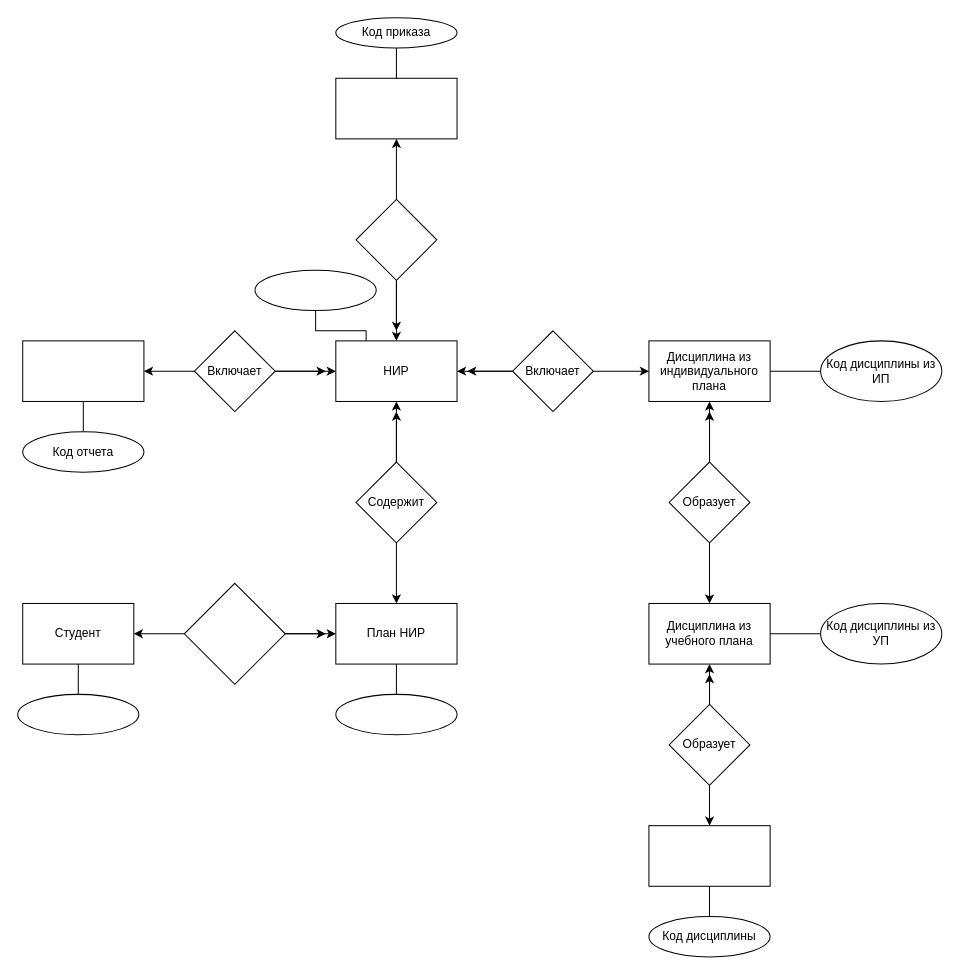
The diagram is 960 pixels wide and 975 high, and some of its shapes have lost their labels. The centre of each missing label's shape, as x and y in pixels:
"Дисциплина" belongs at (709,855).
"Код НИР" belongs at (315,290).
"Код плана НИР" belongs at (396,714).
"Код студента" belongs at (78,714).
"Отчетность НИР" belongs at (83,370).
"Приказ" belongs at (396,108).
"Присваивается" belongs at (234,633).
"Утверждает" belongs at (396,239).
